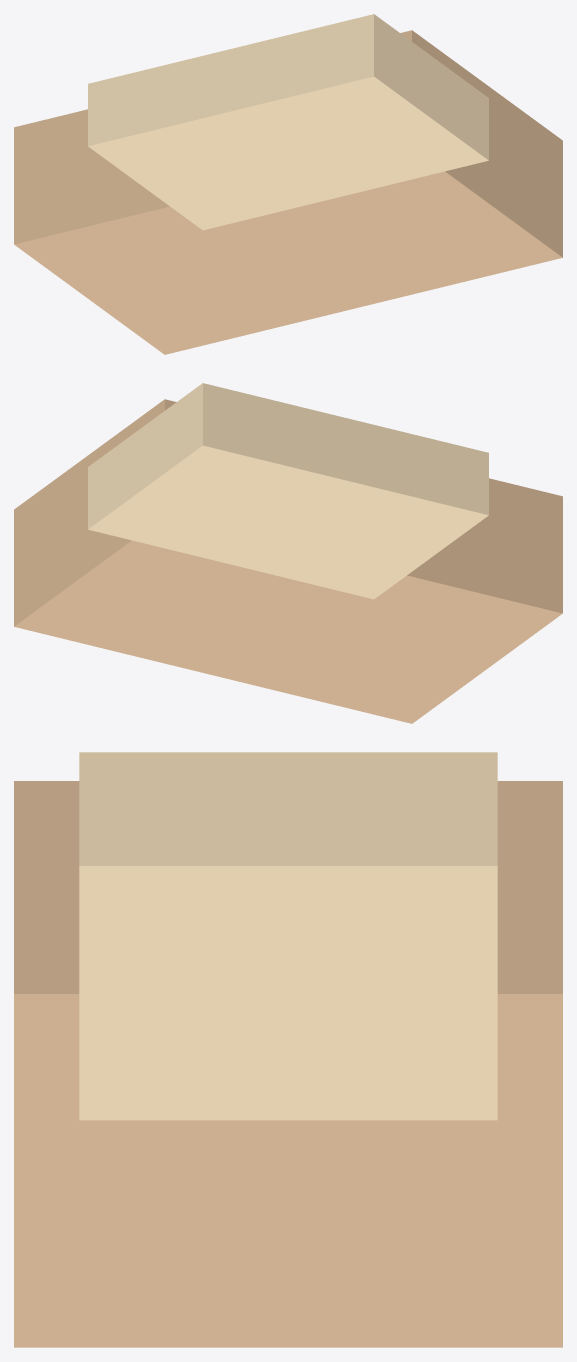
The model's file is product-demo.glb.
3 views of the same model, one above another, from view 1: azimuth 30°, elevation 25°; view 2: azimuth 150°, elevation 25°; view 3: azimuth 270°, elevation 25° (orthographic). The views are drawn at different scales.
Visible parts, largest first — view 1: Base, Moving drawer; view 2: Base, Moving drawer; view 3: Base, Moving drawer.
Part boxes in pixels (<box>): Base: <box>14,30,562,354</box>; Moving drawer: <box>88,14,488,230</box>; Base: <box>14,399,562,723</box>; Moving drawer: <box>88,383,488,599</box>; Base: <box>14,781,562,1347</box>; Moving drawer: <box>79,752,497,1120</box>.
Size of the model in its own units: 1.6 by 0.615 by 1.05.
